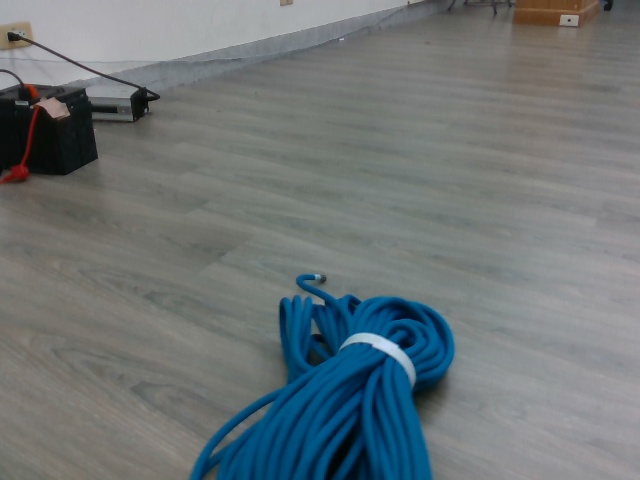rope: (184, 271, 460, 480)
